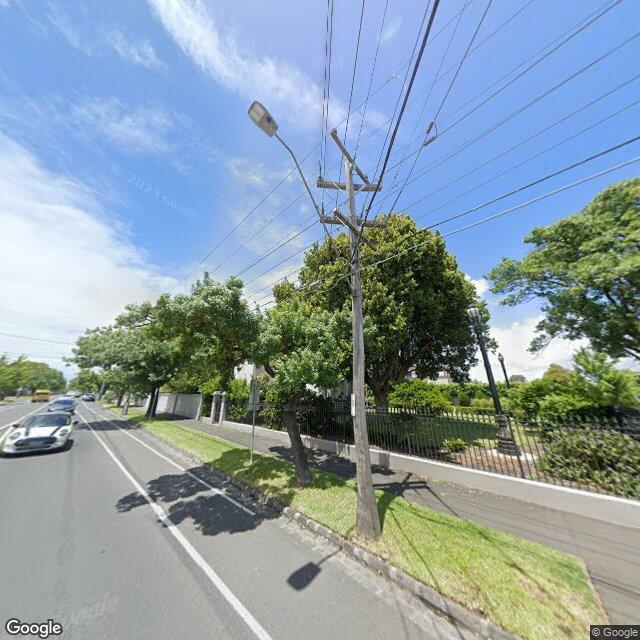HV-transmission: (316, 163, 384, 184)
crossarm: (333, 208, 376, 252), (320, 215, 386, 228), (316, 180, 381, 191)
steel-pole: (330, 130, 370, 183)
streetlight: (247, 100, 355, 296)
timber-pole: (344, 154, 381, 537)
